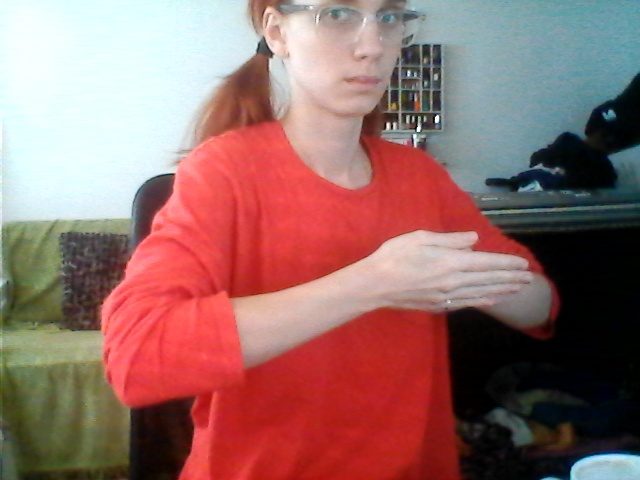dvere: (370, 225, 537, 324)
